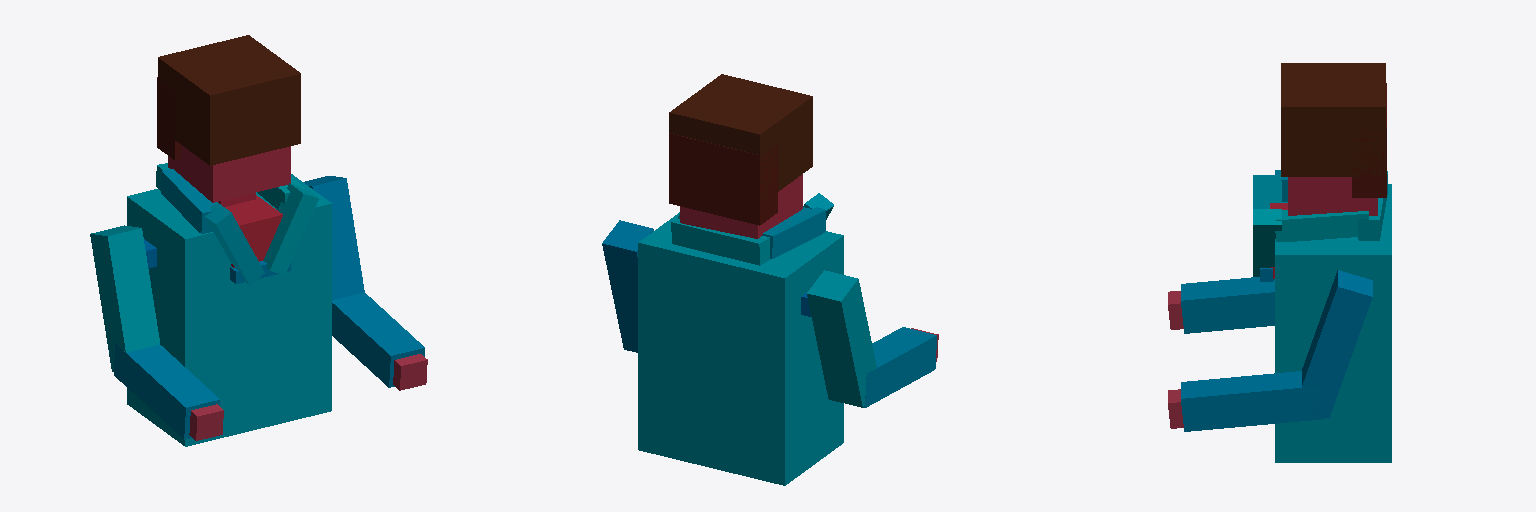
The model's file is bob2.obj.
3 views of the same model, side by side, from view 1: azimuth 30°, elevation 25°; view 2: azimuth 150°, elevation 25°; view 3: azimuth 270°, elevation 25° (orthographic).
Parts seen in each view (by area): view 1: Cube, Cube.003, Cube.006, Cube.008, Cube.007, Cube.002, Cube.005, Cube.012, Cube.011, Cube.016_Cube.017, Cube.014_Cube.015, Cube.004 (+2 smaller); view 2: Cube, Cube.003, Cube.004, Cube.006, Cube.008, Cube.005, Cube.015_Cube.016, Cube.002, Cube.014_Cube.015; view 3: Cube, Cube.003, Cube.007, Cube.005, Cube.008, Cube.002, Cube.013, Cube.012, Cube.004, Cube.011, Cube.015_Cube.016.
Boxes of the visible parts, box(x1,y1,x2,y2) form: Cube: box(127, 174, 331, 446); Cube.003: box(158, 35, 300, 165); Cube.006: box(90, 225, 159, 371); Cube.008: box(114, 344, 219, 439); Cube.007: box(332, 292, 424, 387); Cube.002: box(168, 145, 290, 202); Cube.005: box(304, 176, 364, 324); Cube.012: box(263, 183, 318, 274); Cube.011: box(205, 202, 264, 284); Cube.016_Cube.017: box(225, 195, 282, 267); Cube.014_Cube.015: box(161, 169, 215, 233); Cube.004: box(157, 77, 180, 159); Cube: box(638, 212, 843, 485); Cube.003: box(669, 74, 812, 203); Cube.004: box(669, 133, 777, 225); Cube.006: box(807, 270, 876, 407); Cube.008: box(840, 327, 936, 407); Cube.005: box(602, 220, 653, 352); Cube.015_Cube.016: box(671, 218, 769, 265); Cube.002: box(680, 174, 802, 238); Cube.014_Cube.015: box(762, 207, 825, 258); Cube: box(1275, 184, 1391, 462); Cube.003: box(1281, 63, 1385, 176); Cube.007: box(1181, 371, 1324, 431); Cube.005: box(1295, 270, 1372, 418); Cube.008: box(1181, 277, 1274, 333); Cube.002: box(1288, 177, 1377, 215); Cube.013: box(1274, 210, 1368, 241); Cube.012: box(1253, 209, 1281, 276); Cube.004: box(1352, 83, 1386, 197); Cube.011: box(1253, 175, 1281, 208); Cube.015_Cube.016: box(1358, 171, 1387, 240).
Bounding box in the file's own units: 2.41 × 3.3 × 1.96.